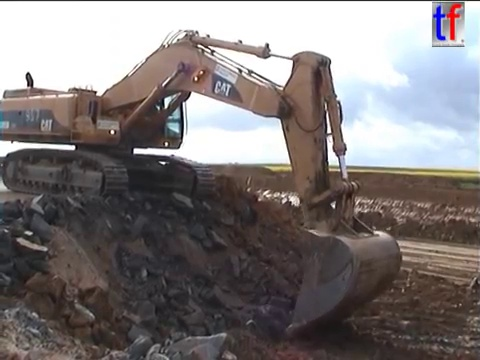excavator: (1, 25, 406, 340)
